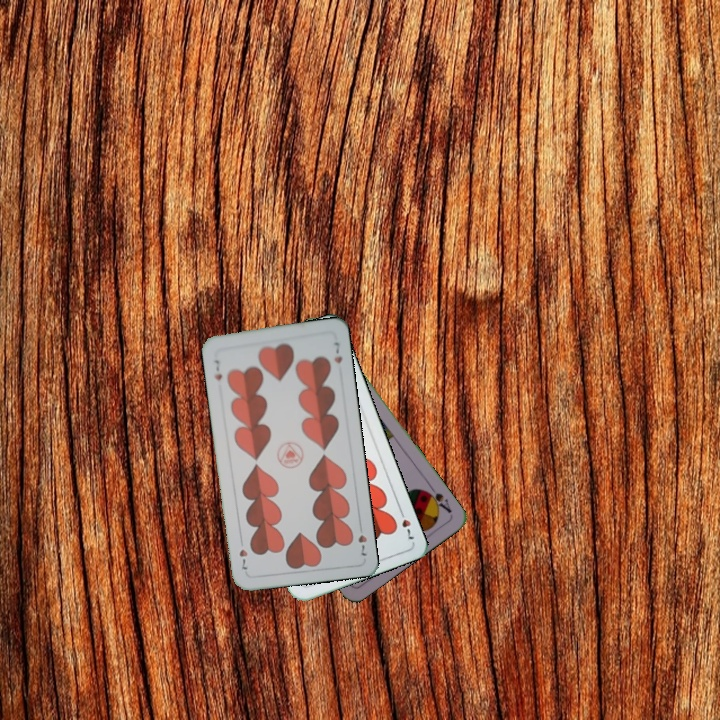H7: (395, 505, 417, 542), (354, 530, 370, 559), (211, 356, 225, 383)
SA: (421, 481, 454, 516)
